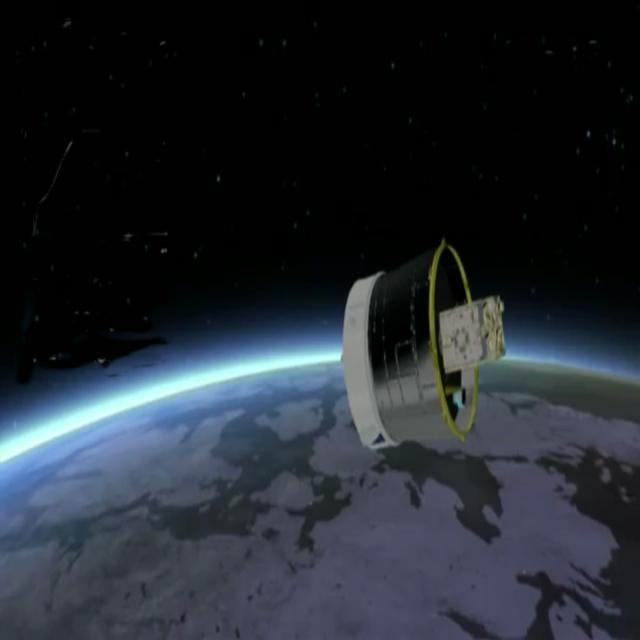satellite: (322, 227, 520, 468)
